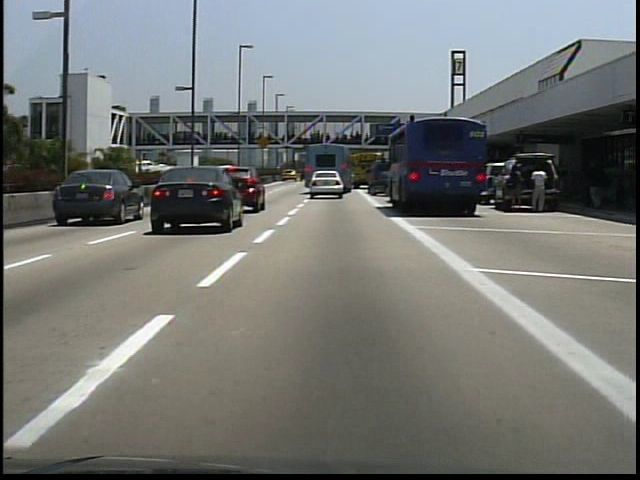person: (505, 163, 529, 220), (527, 160, 549, 216), (588, 161, 607, 212)
